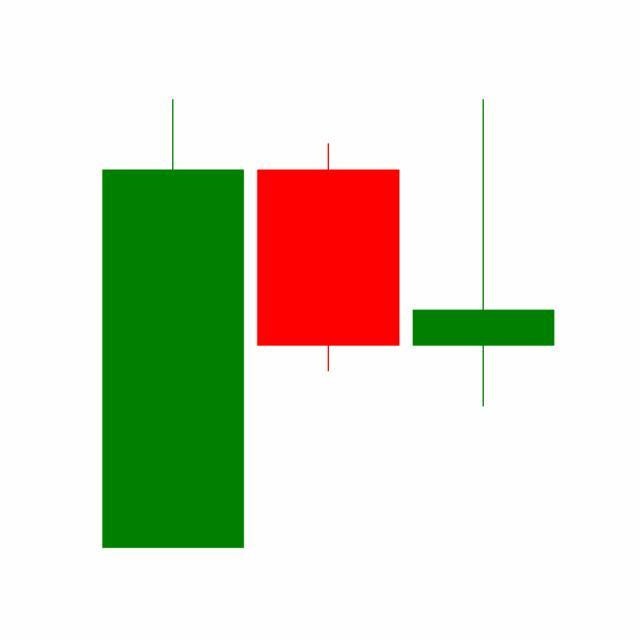Marubozu: (250, 142, 407, 376)
